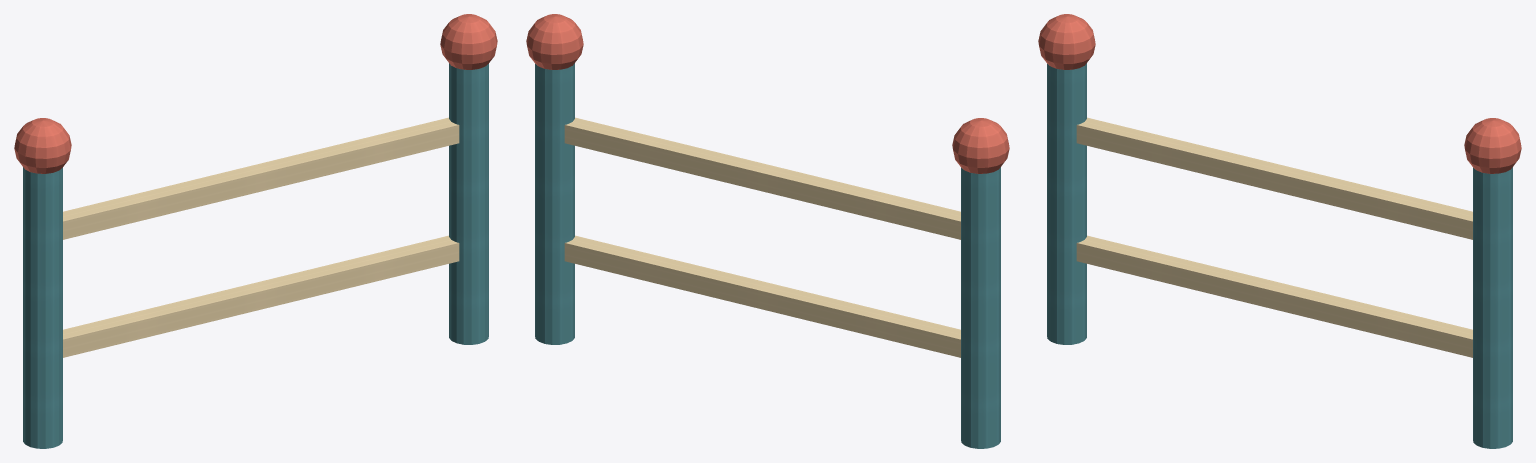
File: atlas100-atompunk-util04.glb
The picture shows the model from 3 angles, left to right: view 1: azimuth 30°, elevation 25°; view 2: azimuth 150°, elevation 25°; view 3: azimuth 330°, elevation 25°; orthographic projection.
Parts seen in each view (by area): view 1: atlas100-atompunk-util04:part-005, atlas100-atompunk-util04:part-004, atlas100-atompunk-util04:part-000, atlas100-atompunk-util04:part-002, atlas100-atompunk-util04:part-001, atlas100-atompunk-util04:part-003; view 2: atlas100-atompunk-util04:part-005, atlas100-atompunk-util04:part-004, atlas100-atompunk-util04:part-000, atlas100-atompunk-util04:part-002, atlas100-atompunk-util04:part-001, atlas100-atompunk-util04:part-003; view 3: atlas100-atompunk-util04:part-005, atlas100-atompunk-util04:part-004, atlas100-atompunk-util04:part-002, atlas100-atompunk-util04:part-000, atlas100-atompunk-util04:part-003, atlas100-atompunk-util04:part-001.
Part boxes in pixels (bbox=[...]): atlas100-atompunk-util04:part-005: bbox=[63, 117, 459, 239]; atlas100-atompunk-util04:part-004: bbox=[63, 235, 459, 357]; atlas100-atompunk-util04:part-000: bbox=[23, 167, 62, 448]; atlas100-atompunk-util04:part-002: bbox=[449, 63, 488, 344]; atlas100-atompunk-util04:part-001: bbox=[14, 118, 71, 173]; atlas100-atompunk-util04:part-003: bbox=[440, 14, 497, 69]; atlas100-atompunk-util04:part-005: bbox=[564, 117, 960, 239]; atlas100-atompunk-util04:part-004: bbox=[564, 235, 960, 357]; atlas100-atompunk-util04:part-000: bbox=[961, 167, 1000, 448]; atlas100-atompunk-util04:part-002: bbox=[535, 63, 574, 344]; atlas100-atompunk-util04:part-001: bbox=[952, 118, 1009, 173]; atlas100-atompunk-util04:part-003: bbox=[526, 14, 583, 69]; atlas100-atompunk-util04:part-005: bbox=[1076, 117, 1472, 239]; atlas100-atompunk-util04:part-004: bbox=[1076, 235, 1472, 357]; atlas100-atompunk-util04:part-002: bbox=[1473, 167, 1512, 448]; atlas100-atompunk-util04:part-000: bbox=[1047, 63, 1086, 344]; atlas100-atompunk-util04:part-003: bbox=[1464, 118, 1521, 173]; atlas100-atompunk-util04:part-001: bbox=[1038, 14, 1095, 69].
Bounding box in the file's own units: 2.03 × 1.3 × 0.2138.
Materials: 3 (3 with a texture image).
